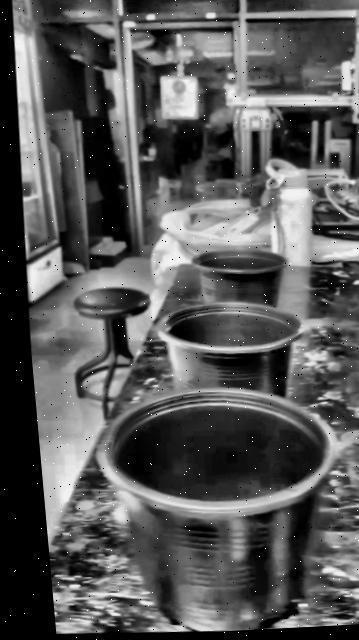pot: (90, 381, 346, 637), (156, 302, 301, 397), (191, 250, 286, 307)
